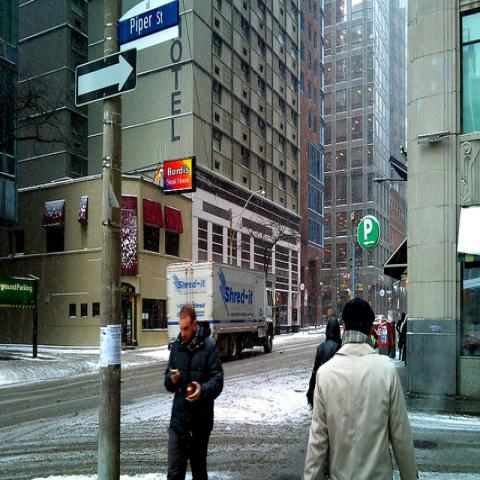truck: (165, 264, 278, 354)
